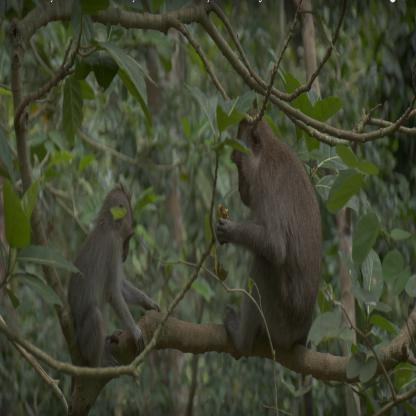monkey: (216, 102, 324, 358), (67, 182, 163, 367)
